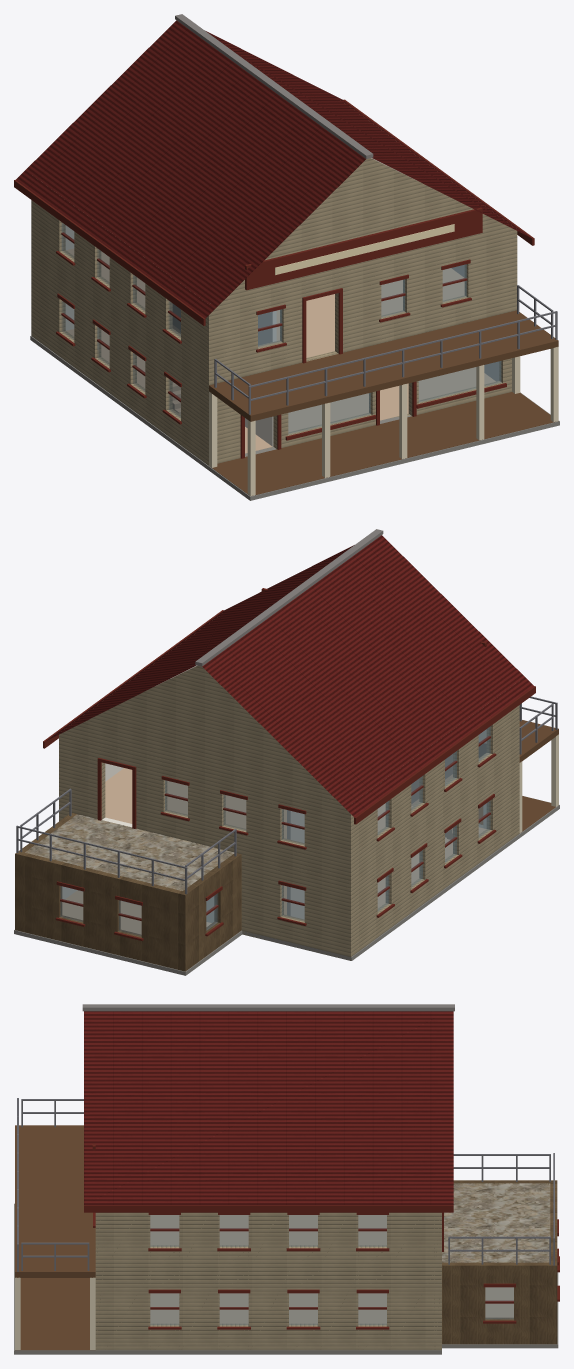
Rendered from rw-mercantile.towns-v1.lod0.glb.
The picture shows the model from 3 angles, top to bottom: view 1: azimuth 30°, elevation 25°; view 2: azimuth 150°, elevation 25°; view 3: azimuth 270°, elevation 25°; orthographic projection. The views are drawn at different scales.
Parts seen in each view (by area): view 1: rw-mercantile; view 2: rw-mercantile; view 3: rw-mercantile.
Boxes of the visible parts, x1,y1,x2,y2 form: rw-mercantile: (14, 14, 559, 500); rw-mercantile: (14, 529, 559, 975); rw-mercantile: (14, 1004, 559, 1354).
Bounding box in the file's own units: 12.88 × 10.51 × 18.92.
Materials: 8 (4 with a texture image).
